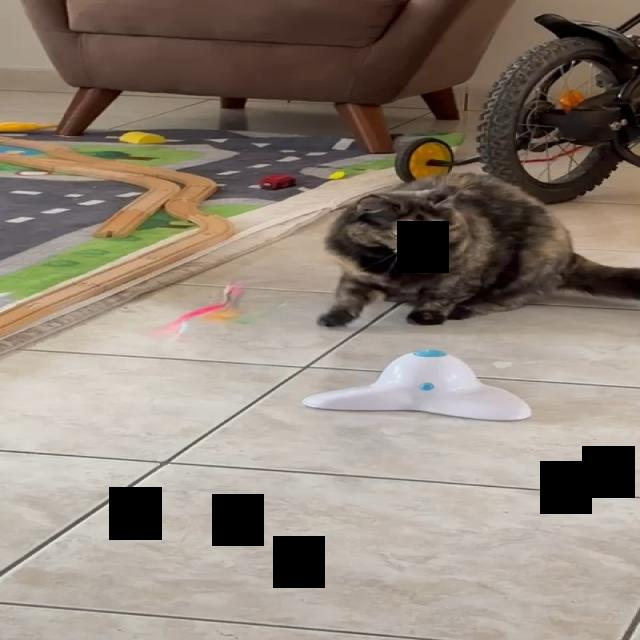authorized: (316, 170, 639, 328)
